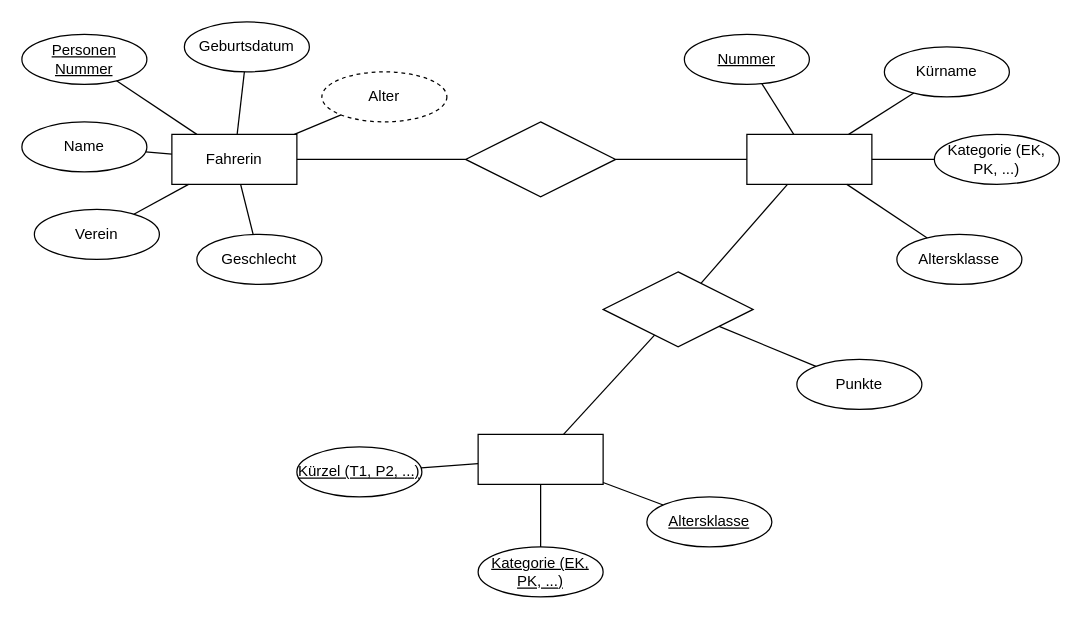
The diagram is 1081 pixels wide and 619 high, and some of its shapes have lost their labels. Here are the shapes that lost their labels. From the top down, the centre of each, then its label:
point 540,159: fährt
point 809,158: Kür
point 677,309: bewertet
point 540,458: Jury
